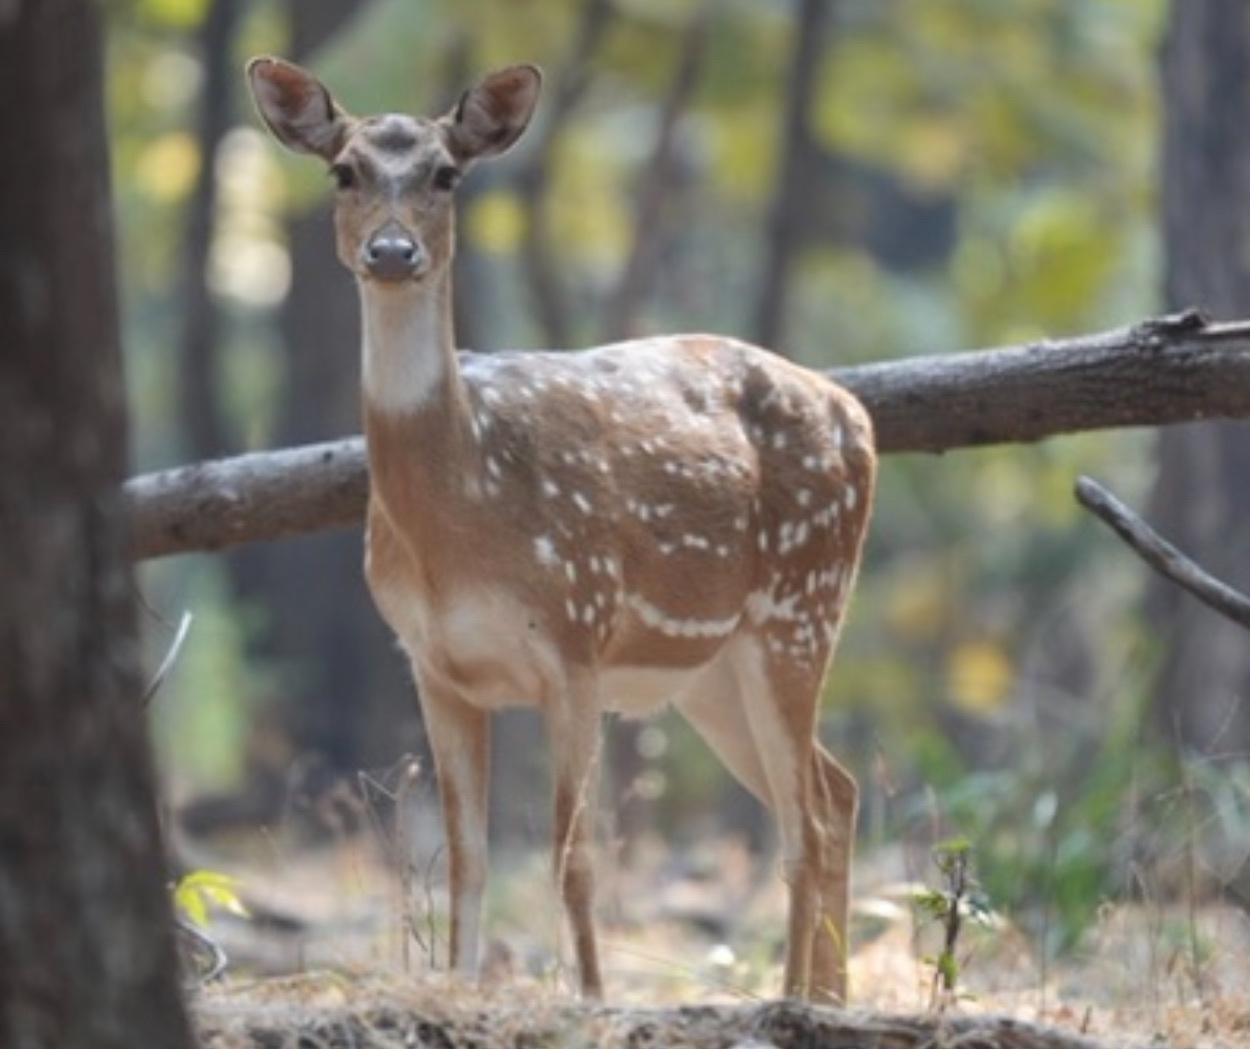Deer: (246, 55, 876, 1002)
